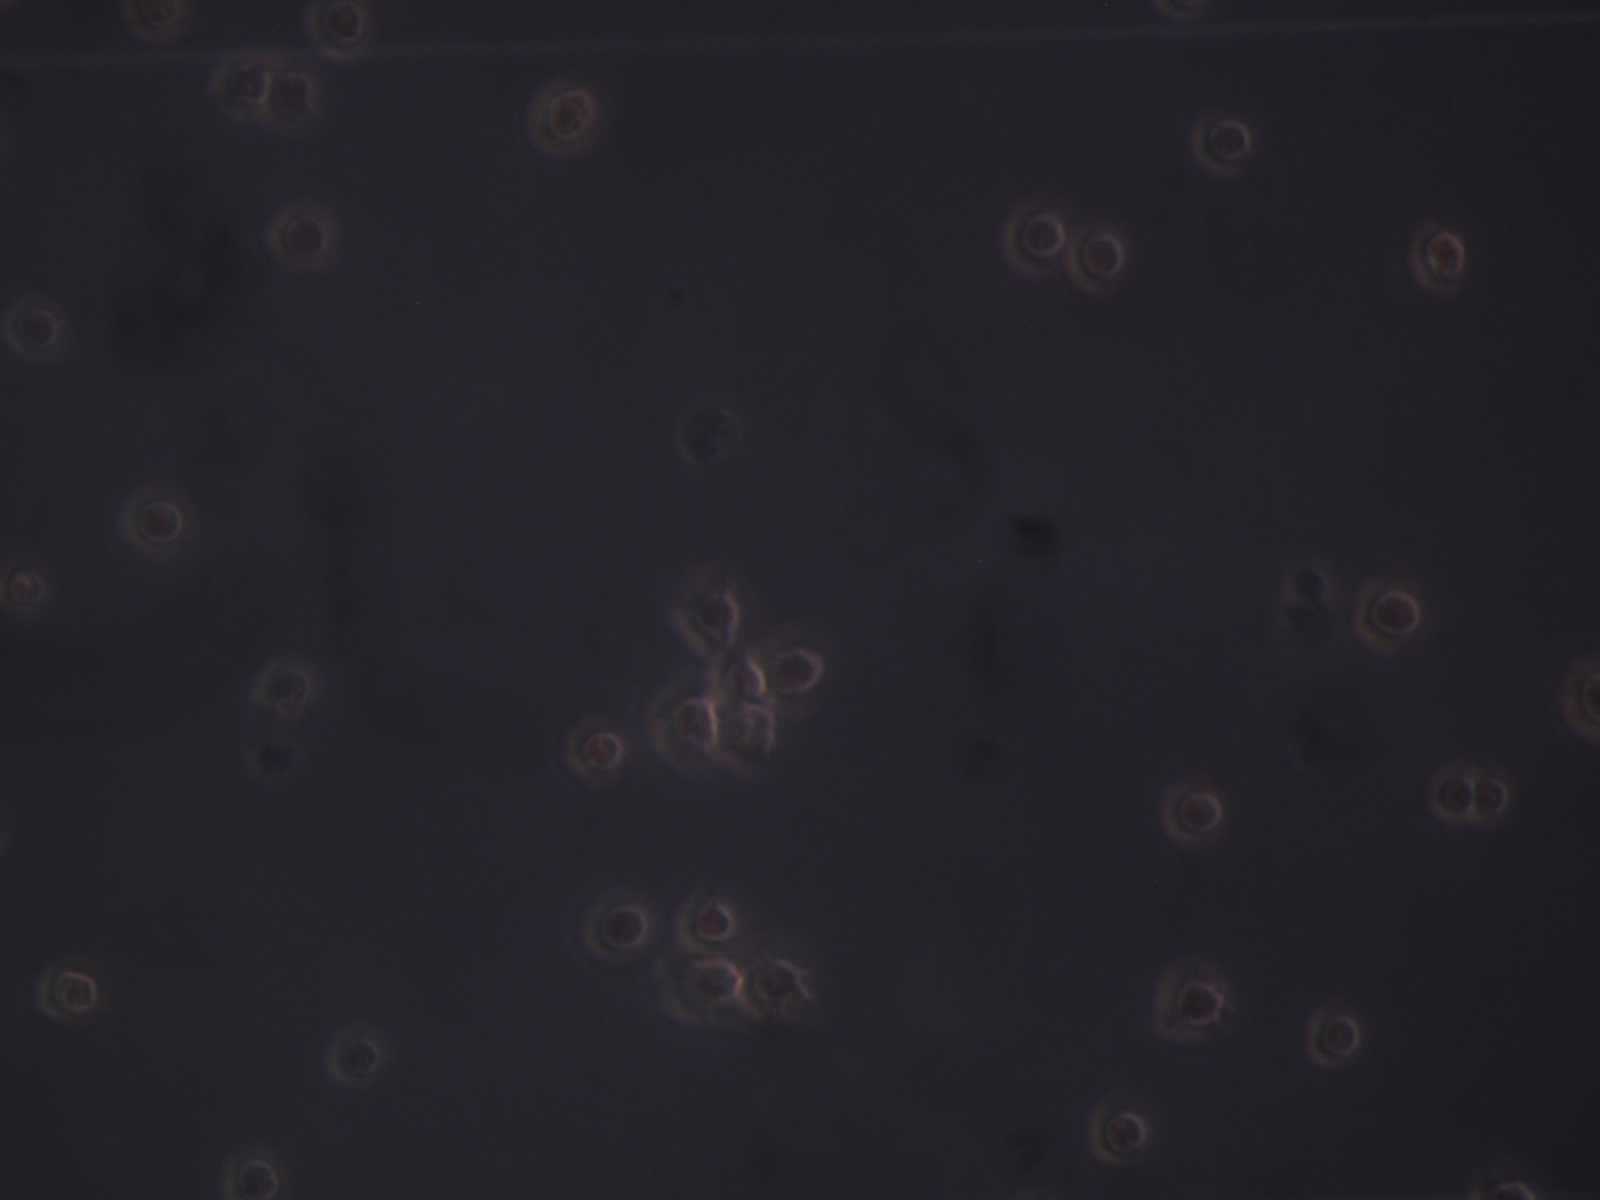hemo: (1154, 952, 1226, 1044), (658, 958, 742, 1029), (648, 684, 718, 766), (528, 79, 596, 159), (745, 950, 811, 1027), (1354, 577, 1419, 655), (1003, 203, 1065, 281), (3, 292, 68, 364), (267, 204, 336, 271), (580, 894, 650, 959), (1407, 222, 1465, 297), (117, 492, 183, 558), (1089, 1099, 1149, 1170), (670, 591, 738, 652), (1065, 231, 1124, 300), (304, 1, 370, 61), (37, 963, 98, 1024), (1162, 787, 1222, 847), (677, 887, 734, 950), (719, 706, 775, 771), (1194, 113, 1250, 176), (765, 644, 825, 701), (563, 720, 622, 776), (224, 1146, 286, 1200), (213, 61, 272, 115), (1560, 659, 1600, 739), (708, 650, 769, 702), (267, 72, 317, 134), (1306, 1006, 1357, 1066), (120, 1, 186, 45), (252, 659, 311, 707), (1427, 768, 1477, 824), (326, 1037, 378, 1085), (1471, 764, 1509, 821), (8, 567, 48, 613)
